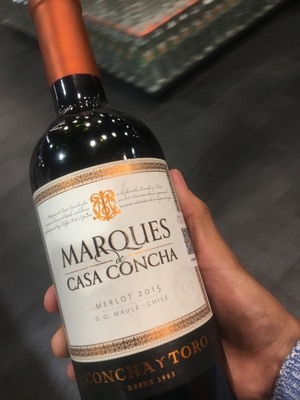marques de casa concha merlot: (35, 4, 225, 400)
